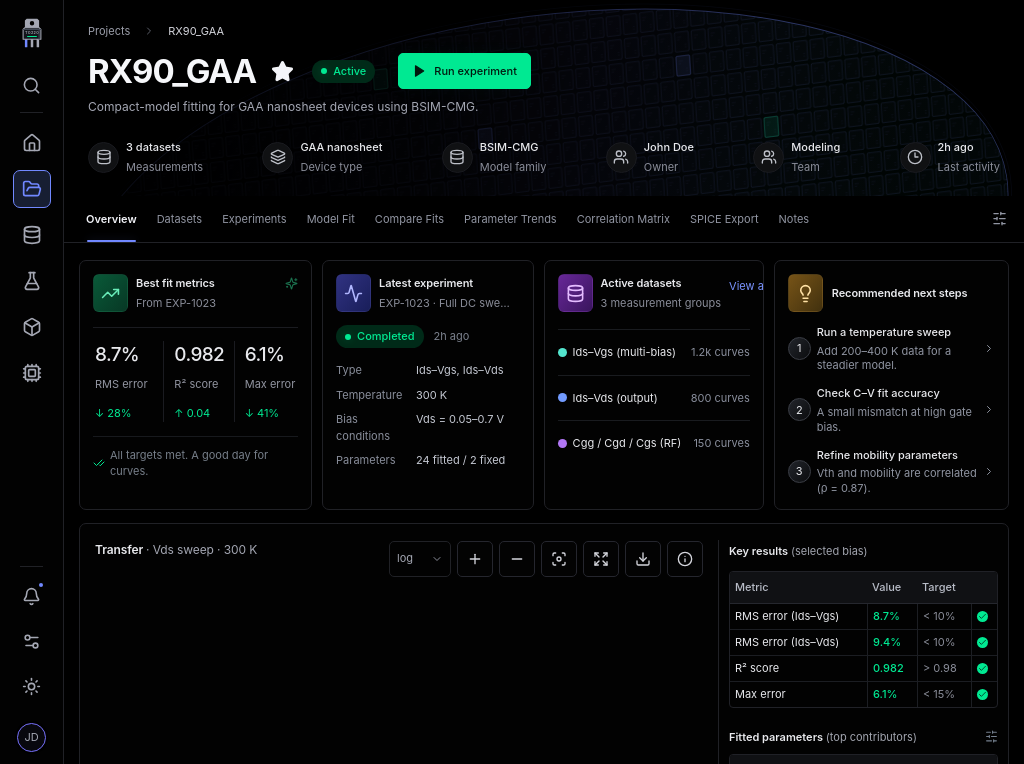
it: MOSFit workbench › consolidates workspace navigation and tools in the sidebar
Expected: the button named "Projects" is shown, [12,170,50,208]
Expected: the button named "Datasets" is shown, [12,216,50,254]
Click the button named "Models" at (32, 327), box [12,308,50,346]
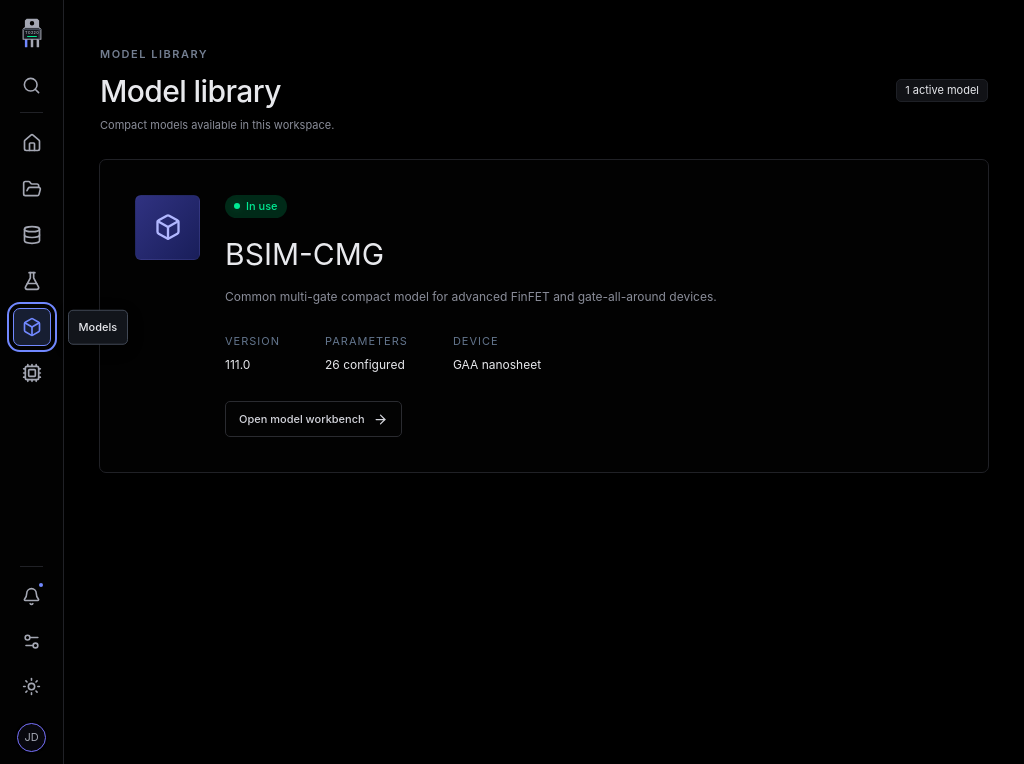
Result: the heading "Model library" is shown at [100,72,281,108]
Click the button named "Compute" at (32, 373), box [12,354,50,392]
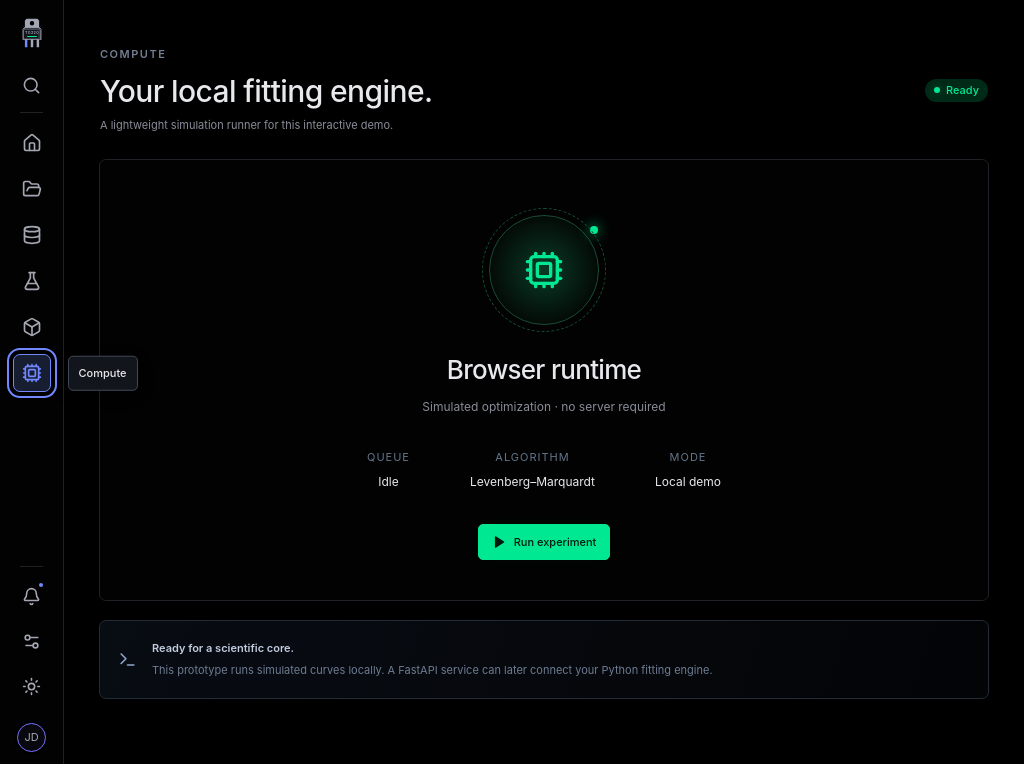
Result: the heading "Browser runtime" is shown at [447,354,641,385]
Click the button named "Search workspace" at (32, 85), box [12,66,50,104]
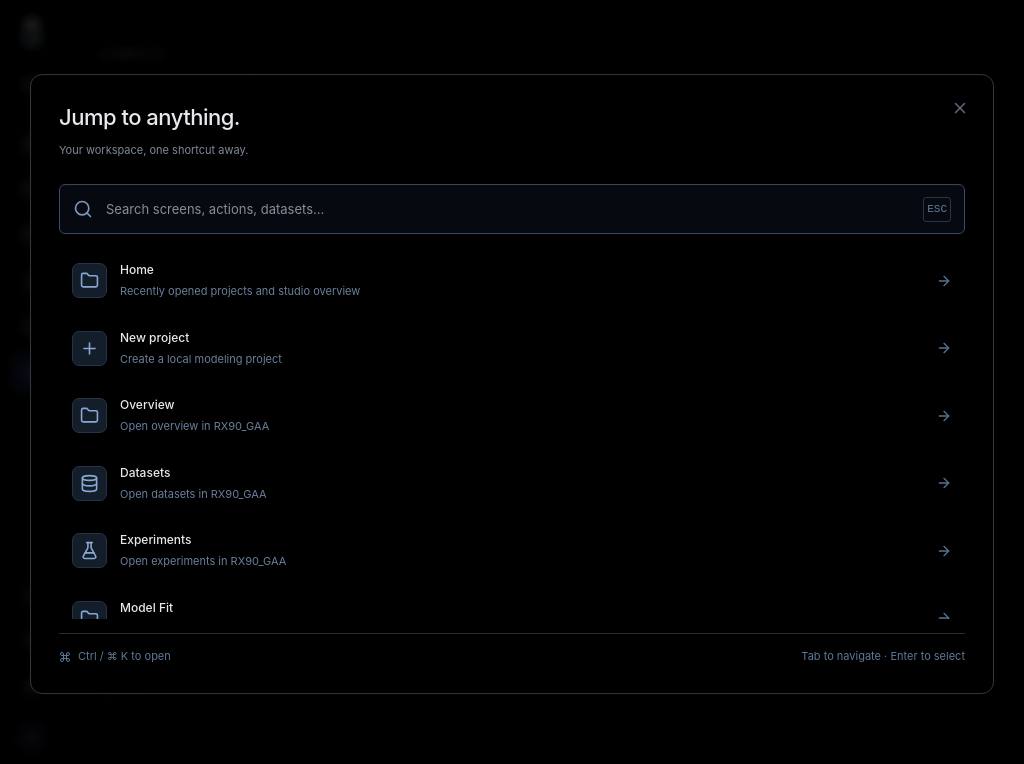
Press Escape
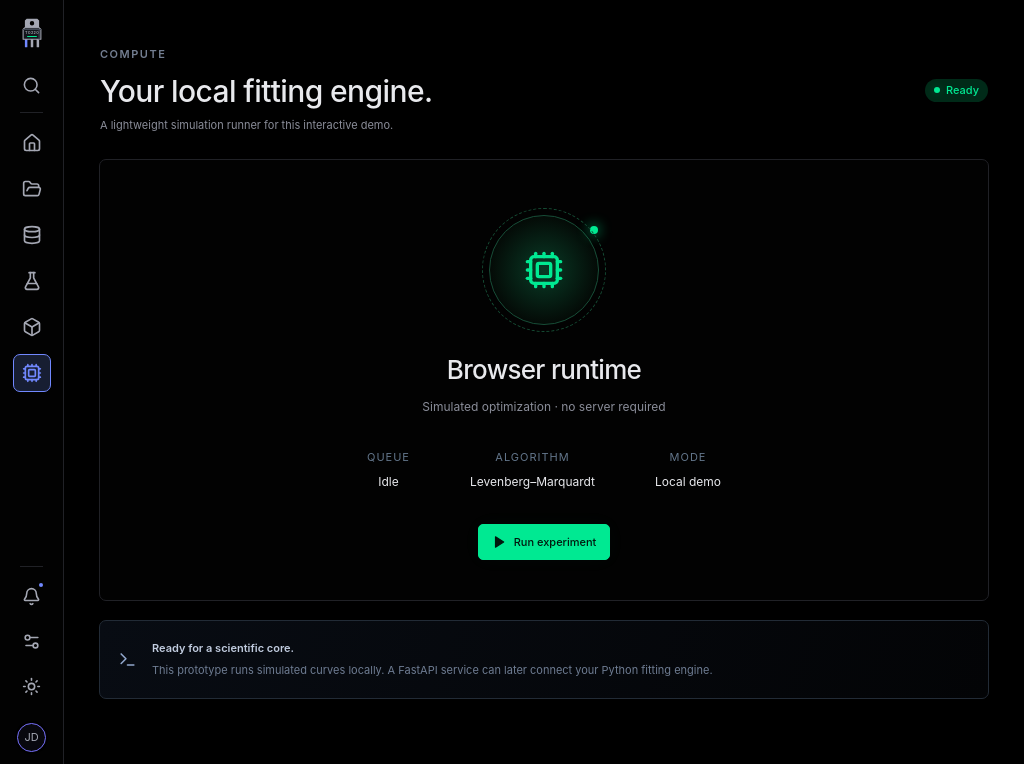
Click the button named "Notifications" at (32, 596), box [12,577,50,615]
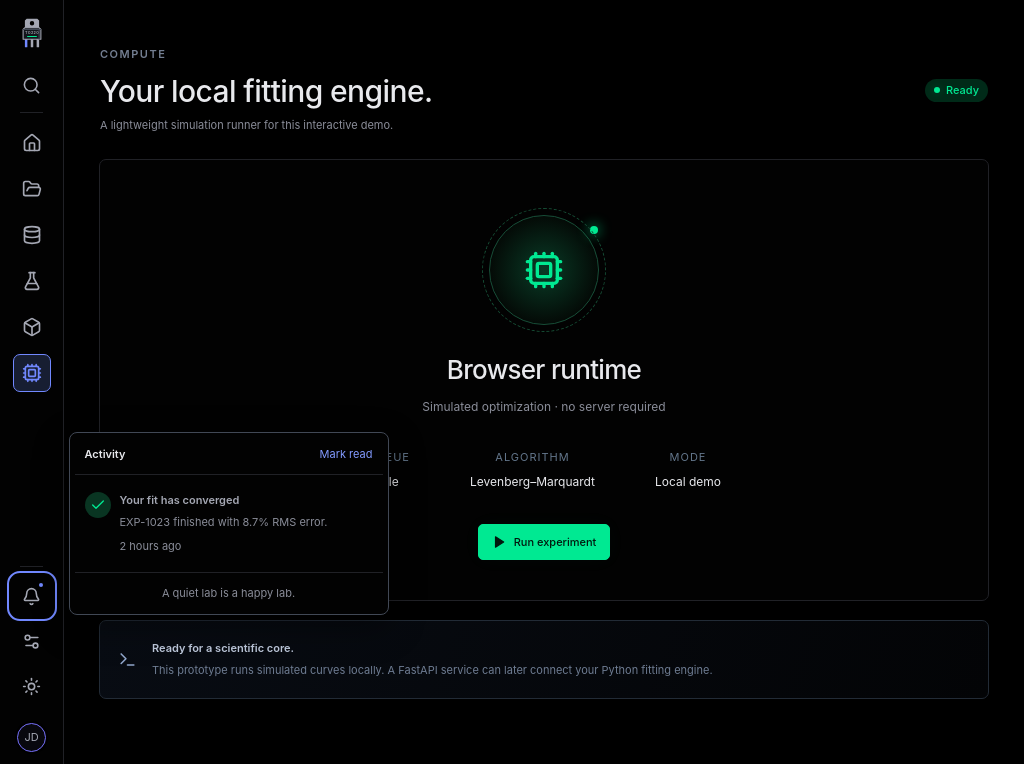
Result: the text "EXP-1023 finished with 8.7% RMS error." is shown at [120,514,327,530]
Click the button with aria-label "John Doe account" at (32, 737), box [12,718,50,756]
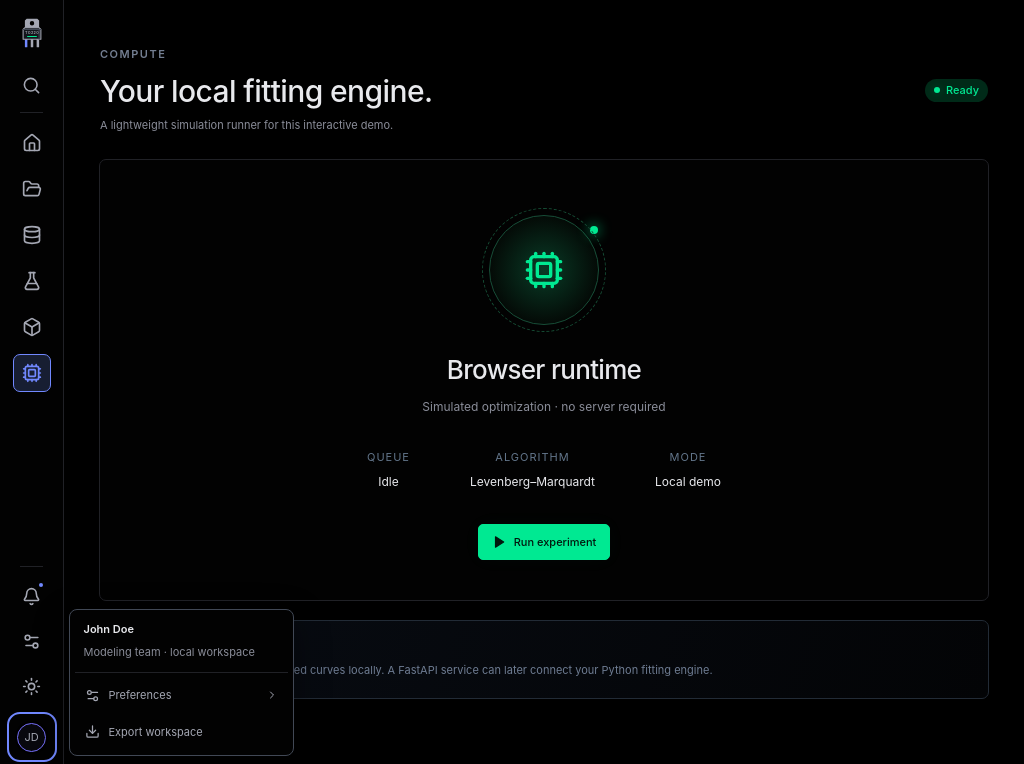
Result: the button "Export workspace" is shown at [74,714,288,750]
